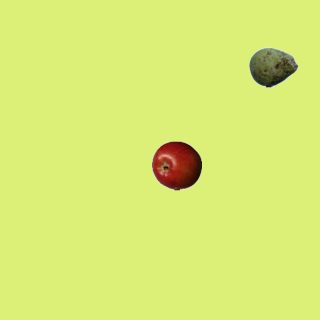Apple Braeburn: (151, 140, 201, 190)
Pear Stone: (248, 42, 298, 92)
